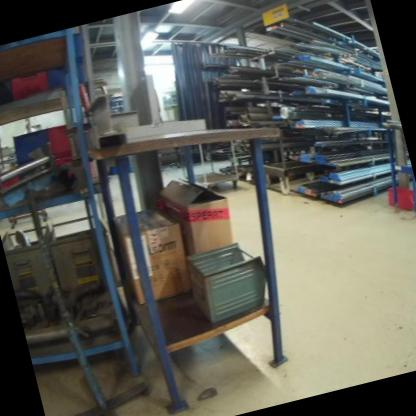small_load_carrier: (11, 126, 54, 169), (381, 175, 416, 215), (11, 71, 50, 99), (44, 119, 69, 157)
